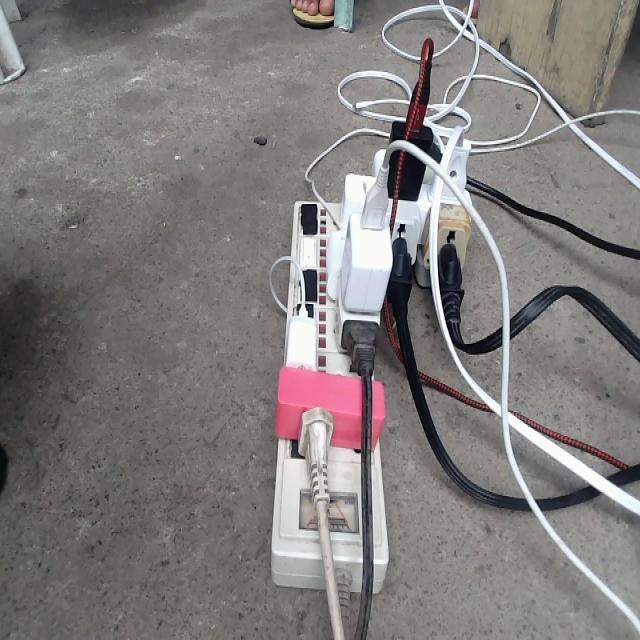-: (269, 51, 474, 592)
